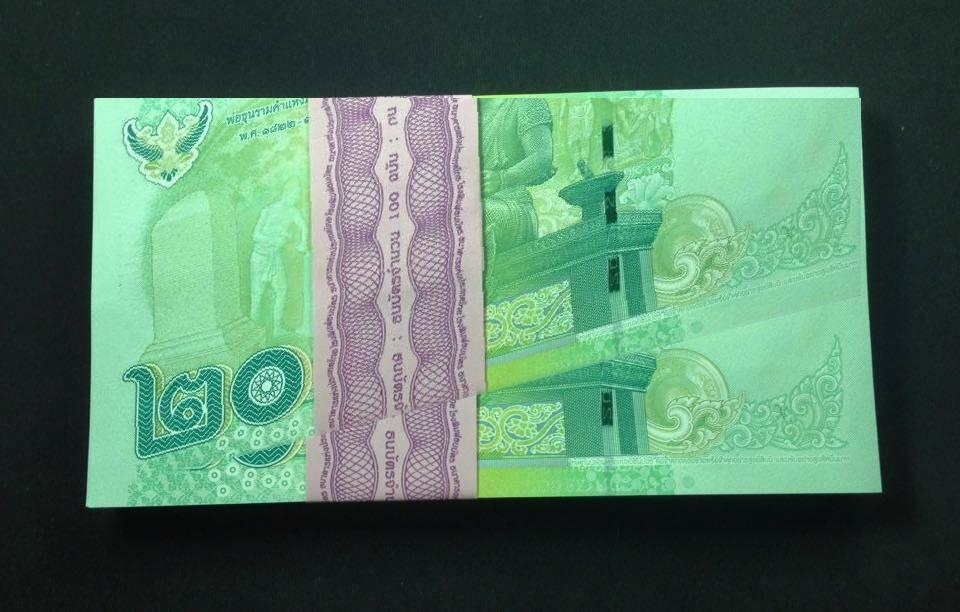20BahtTai: (94, 99, 861, 493)
